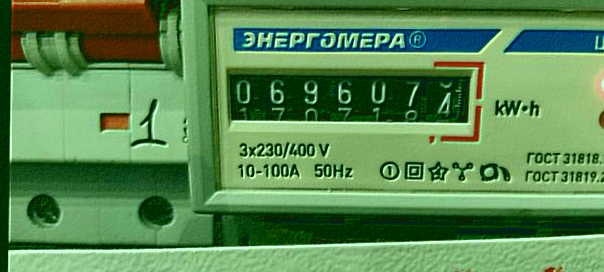0: (233, 77, 254, 106), (370, 76, 388, 106), (269, 78, 286, 104)
4: (436, 90, 453, 118)
6: (335, 76, 353, 106)
7: (403, 78, 421, 107)
9: (302, 77, 320, 106)
screen: (211, 54, 486, 142)
